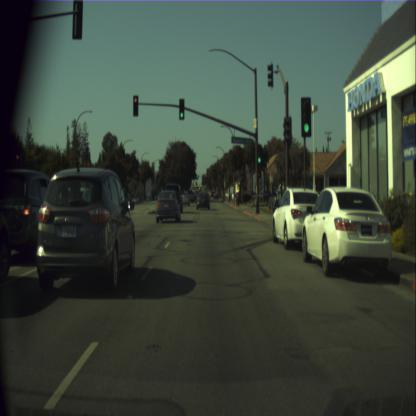Green: (300, 97, 312, 136), (178, 98, 184, 120), (257, 144, 262, 166)
Red: (204, 173, 206, 180)
RedLeft: (133, 95, 138, 116), (15, 152, 21, 168)
